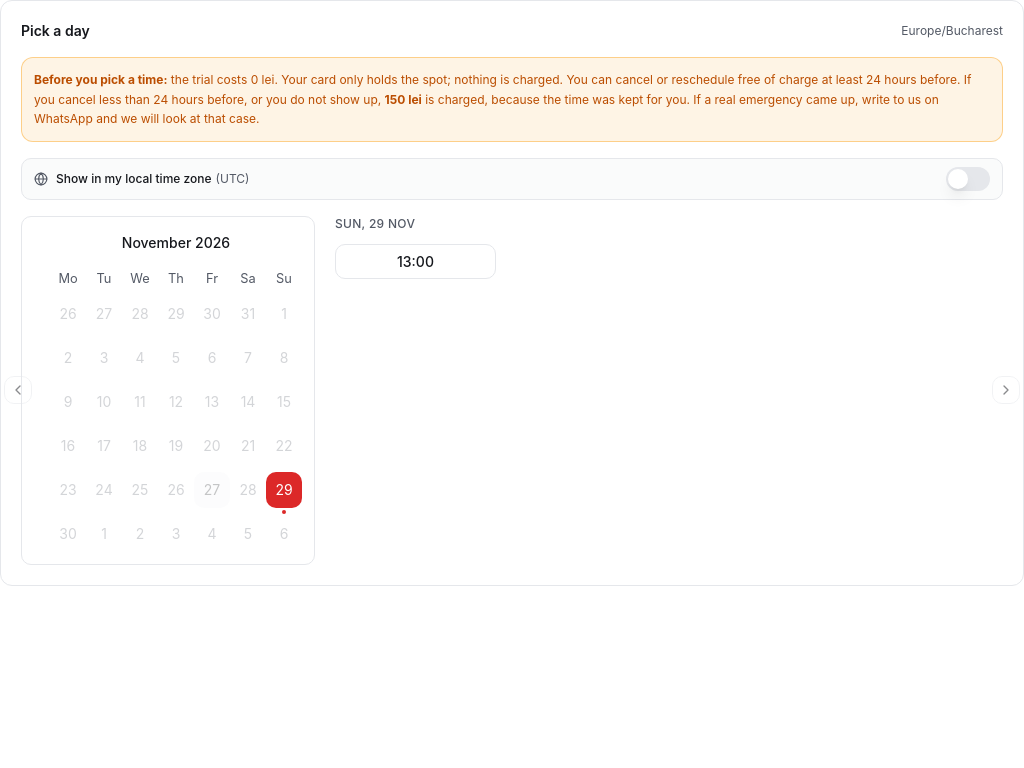
Test: free-trial booking through email verification › preserves the chosen slot while requesting a code for a new visitor
Click the button "13:00" at (416, 261), box [335,244,496,279]
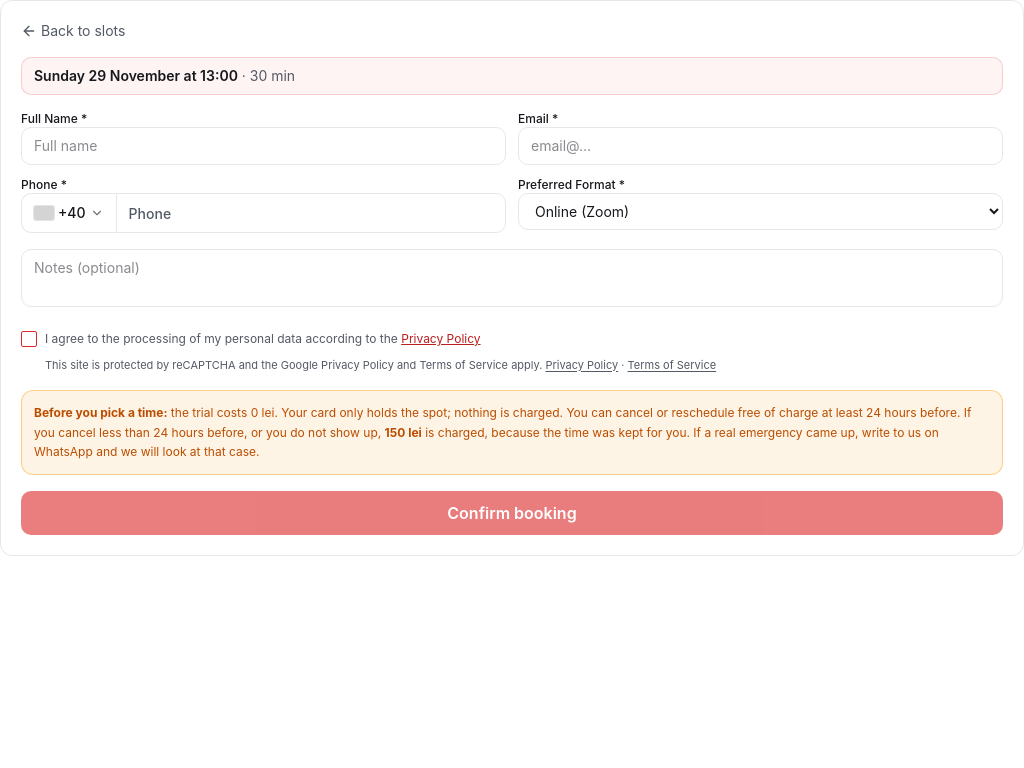
Type "Test Visitor" into the field with placeholder "Full Name" at (264, 146), box [21,127,506,165]
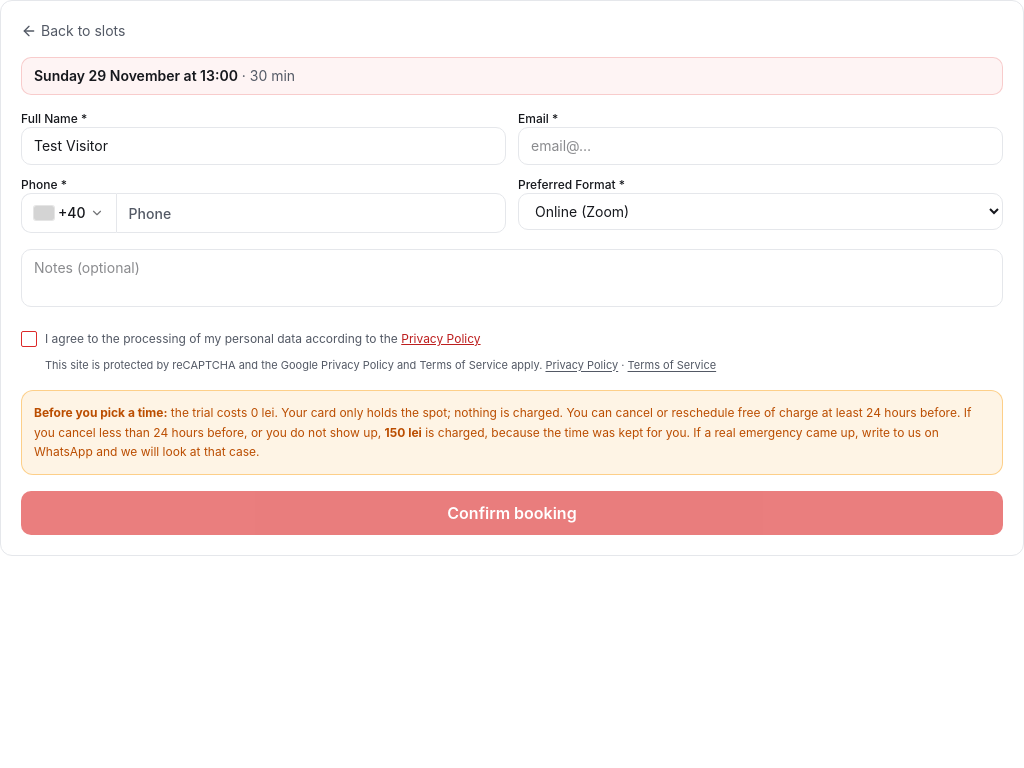
Type "visitor@example.test" into the field with placeholder "email@…" at (760, 146), box [518,127,1003,165]
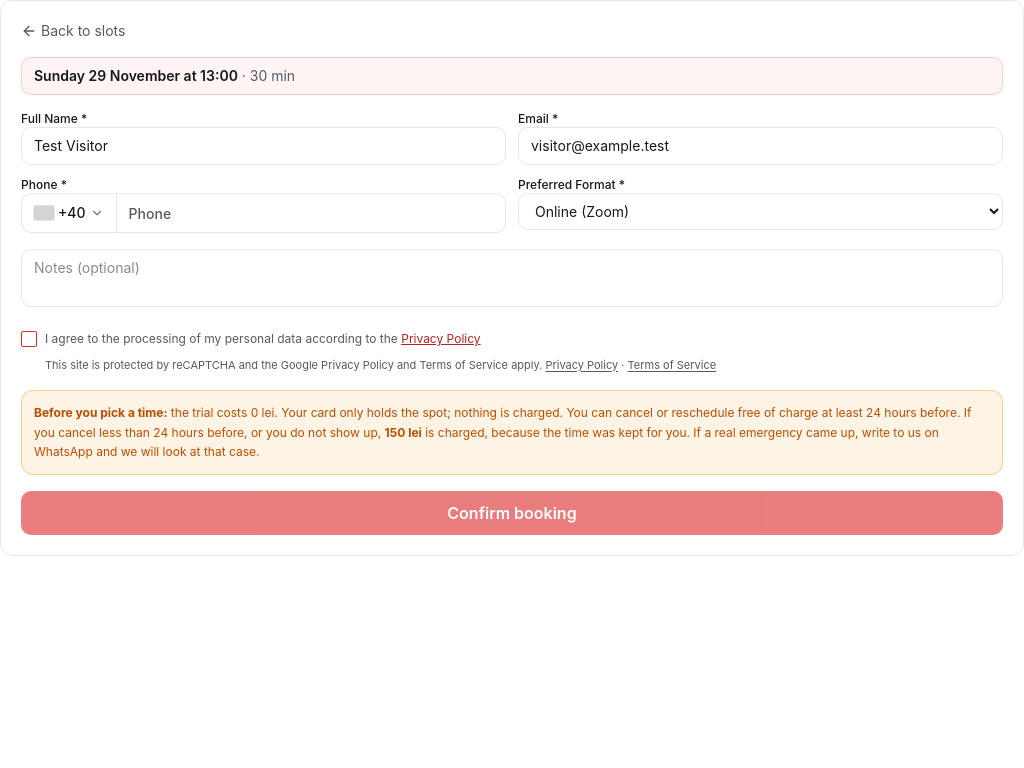
Type "+40722123456" into the field with placeholder "Phone" at (311, 213), box [116,193,506,233]
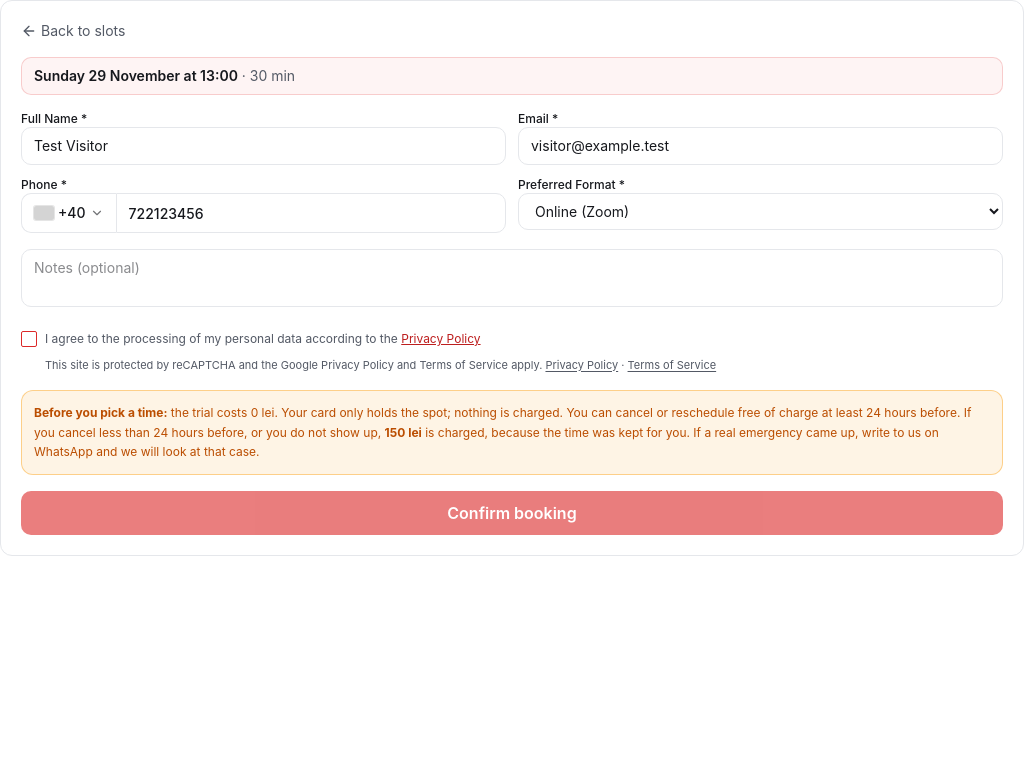
Click the checkbox at (29, 339), box [21,331,37,347]
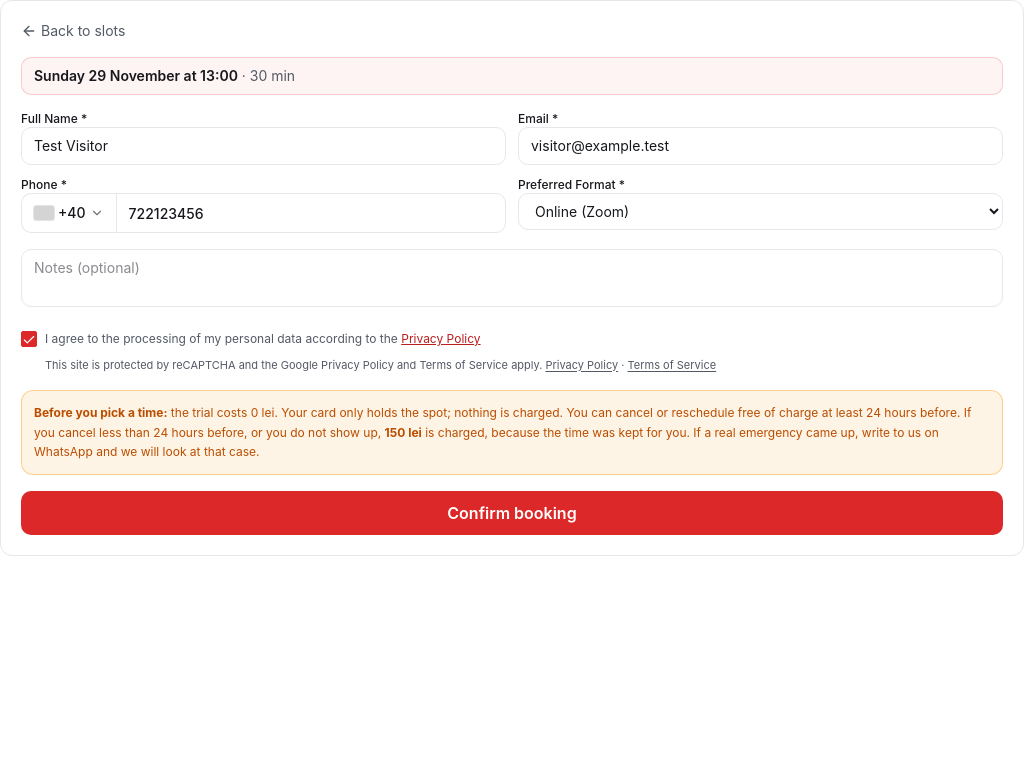
Click the button "Confirm booking" at (512, 513), box [21,491,1003,535]
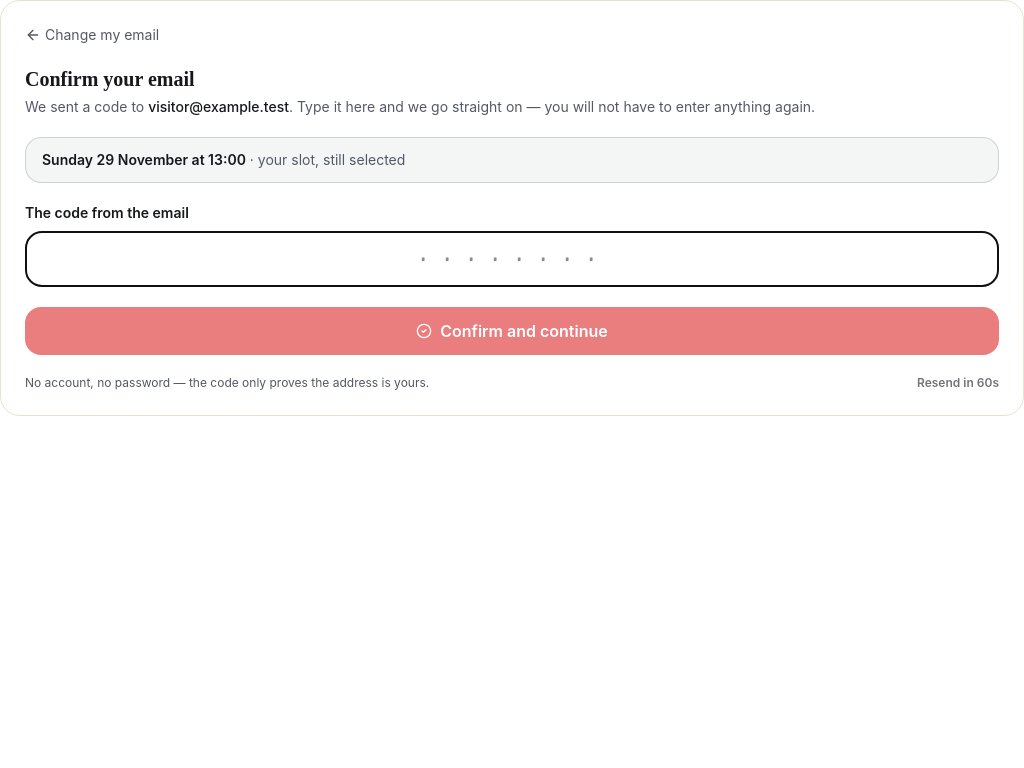
Result: the text "· your slot, still selected" is shown at [246,151,405,168]
Result: the button "Confirm and continue" is disabled at [25,307,999,355]
